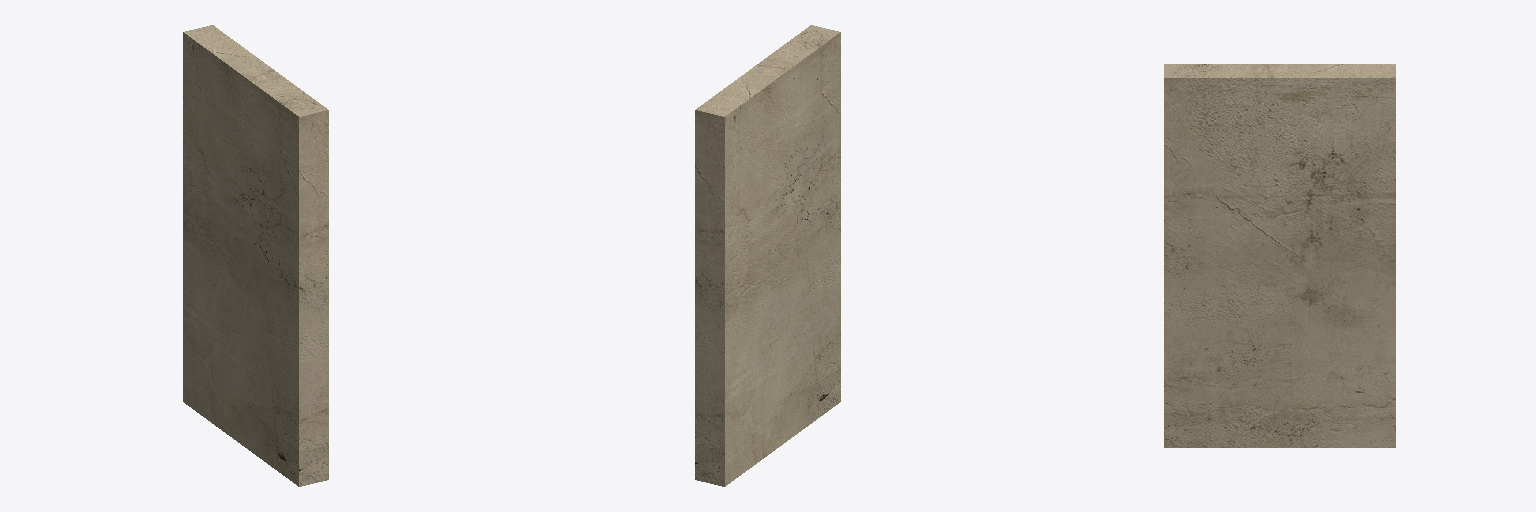
3 views of the same model, side by side, from view 1: azimuth 30°, elevation 25°; view 2: azimuth 150°, elevation 25°; view 3: azimuth 270°, elevation 25° (orthographic).
Parts seen in each view (by area): view 1: Box01; view 2: Box01; view 3: Box01.
Boxes of the visible parts, <box> form: Box01: <box>183,25,328,486</box>; Box01: <box>695,25,840,486</box>; Box01: <box>1164,64,1395,447</box>.
Size of the model in its own units: 0.2924 by 3.51 by 2.
1 materials, 1 textured.